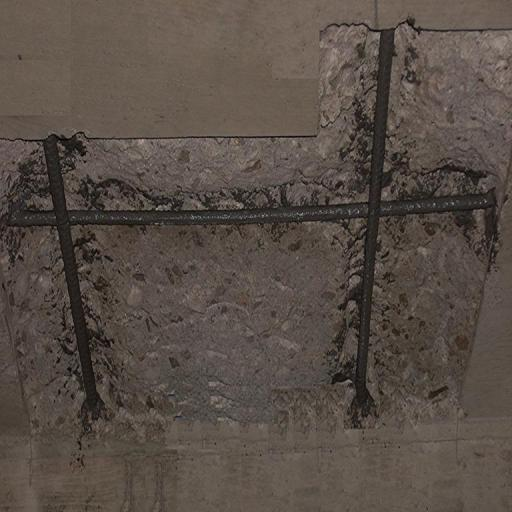spalling: (2, 30, 510, 441)
